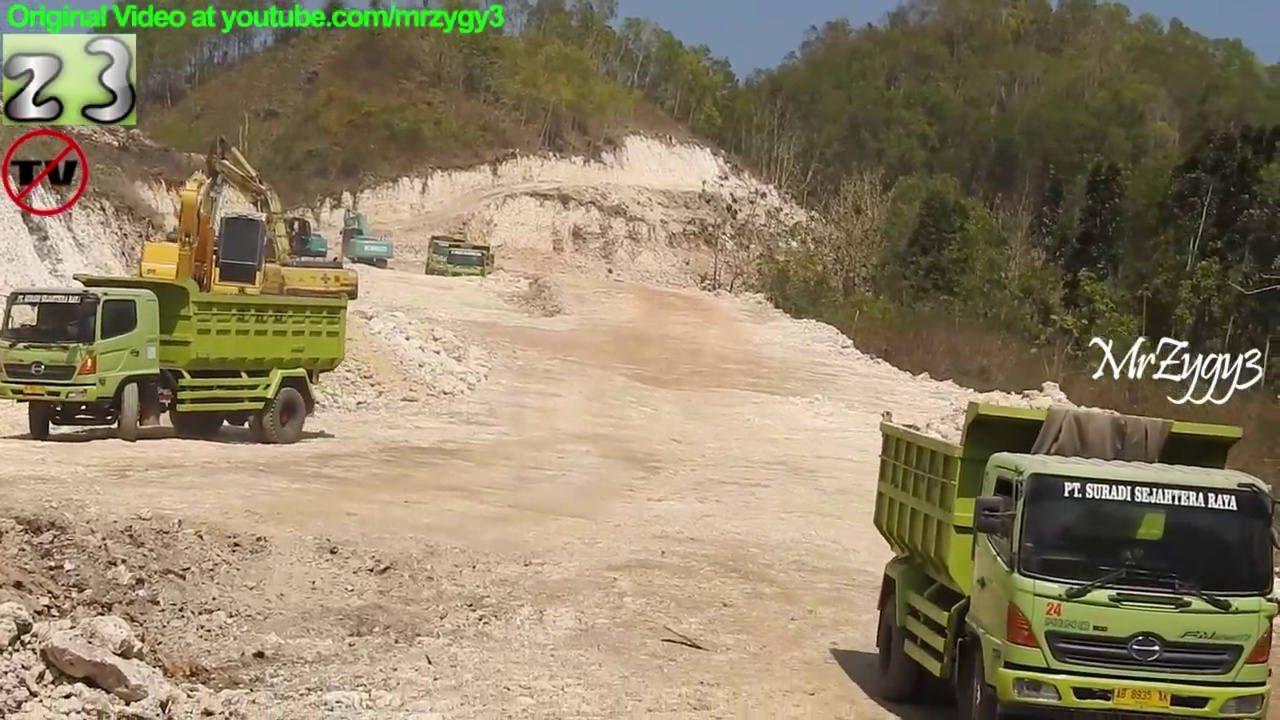excavator: (98, 136, 324, 374), (167, 138, 362, 336), (200, 159, 333, 288), (340, 202, 396, 272)
truck: (869, 398, 1280, 720), (1, 272, 350, 447), (444, 241, 496, 288), (423, 230, 469, 281)
